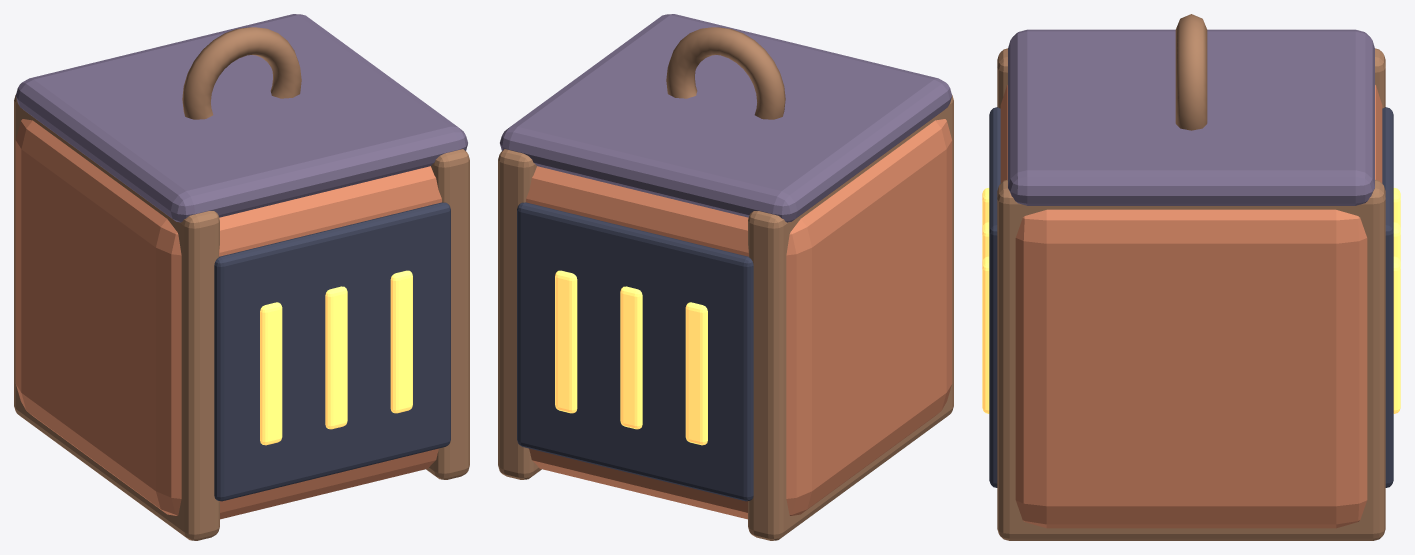
File: inferno_crate.glb
3 renders of one model, left to right at view 1: azimuth 30°, elevation 25°; view 2: azimuth 150°, elevation 25°; view 3: azimuth 270°, elevation 25°, orthographic. The views are drawn at different scales.
Parts seen in each view (by area): view 1: Batched V2 inferno warm, Batched V2 inferno stone, Batched V2 inferno dark, Batched V2 inferno copper, Batched V2 inferno glow; view 2: Batched V2 inferno warm, Batched V2 inferno stone, Batched V2 inferno dark, Batched V2 inferno copper, Batched V2 inferno glow; view 3: Batched V2 inferno warm, Batched V2 inferno stone, Batched V2 inferno copper, Batched V2 inferno dark, Batched V2 inferno glow.
Boxes of the visible parts, bbox=[...] form: Batched V2 inferno warm: bbox=[15, 119, 441, 519]; Batched V2 inferno stone: bbox=[16, 14, 467, 222]; Batched V2 inferno dark: bbox=[214, 202, 450, 501]; Batched V2 inferno copper: bbox=[14, 27, 469, 540]; Batched V2 inferno glow: bbox=[260, 270, 412, 445]; Batched V2 inferno warm: bbox=[526, 119, 952, 519]; Batched V2 inferno stone: bbox=[500, 14, 951, 222]; Batched V2 inferno dark: bbox=[517, 202, 753, 501]; Batched V2 inferno copper: bbox=[498, 27, 953, 540]; Batched V2 inferno glow: bbox=[555, 270, 707, 445]; Batched V2 inferno warm: bbox=[1000, 85, 1382, 528]; Batched V2 inferno stone: bbox=[1008, 29, 1374, 205]; Batched V2 inferno copper: bbox=[997, 14, 1385, 540]; Batched V2 inferno dark: bbox=[989, 107, 1393, 487]; Batched V2 inferno glow: bbox=[982, 188, 1400, 413].
Size of the model in its own units: 1.08 by 1.41 by 1.18.
